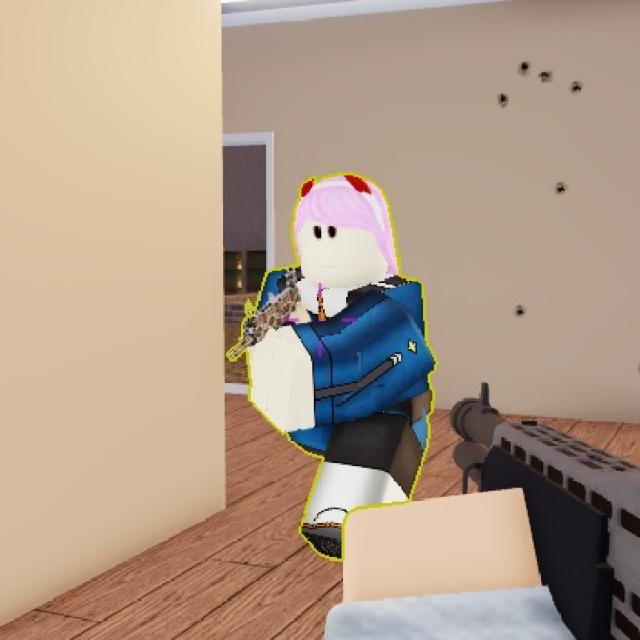player: (247, 160, 425, 504)
